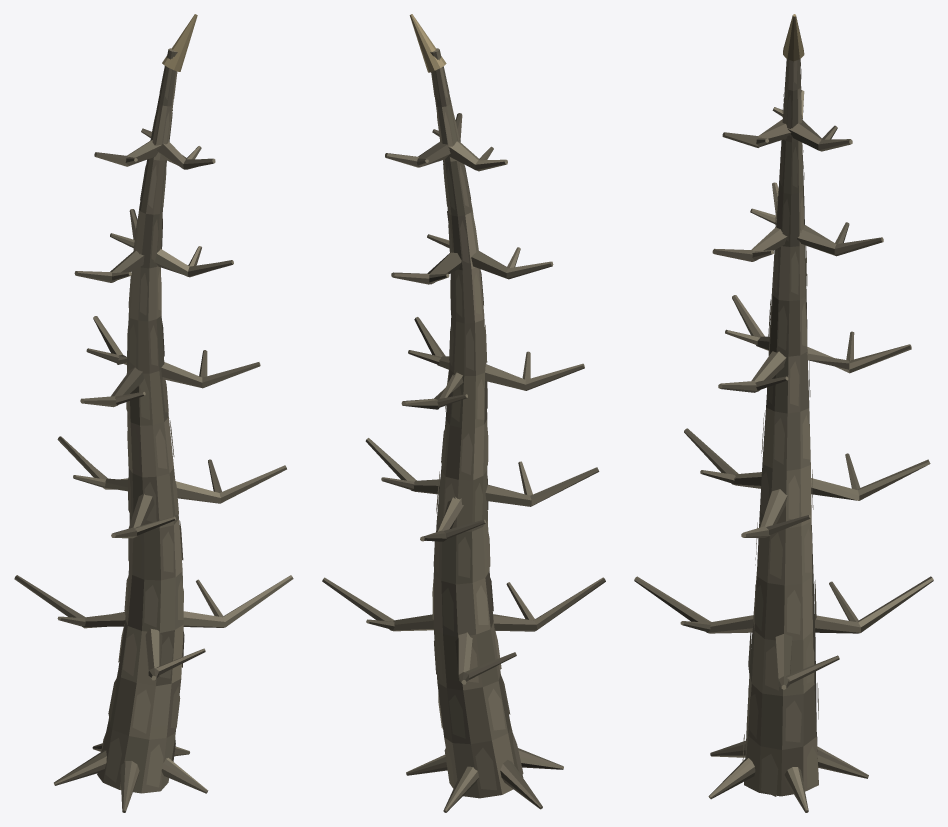
File: pine-08.glb
3 renders of one model, left to right at view 1: azimuth 30°, elevation 25°; view 2: azimuth 150°, elevation 25°; view 3: azimuth 270°, elevation 25°, orthographic. The views are drawn at different scales.
Visible parts, largest first — view 1: pine-08; view 2: pine-08; view 3: pine-08.
Boxes of the visible parts, left/top/right/bottom form: pine-08: left=14, top=14, right=293, bottom=812; pine-08: left=322, top=14, right=605, bottom=812; pine-08: left=634, top=14, right=933, bottom=812.
Bounding box in the file's own units: 2.64 × 8 × 2.71.
